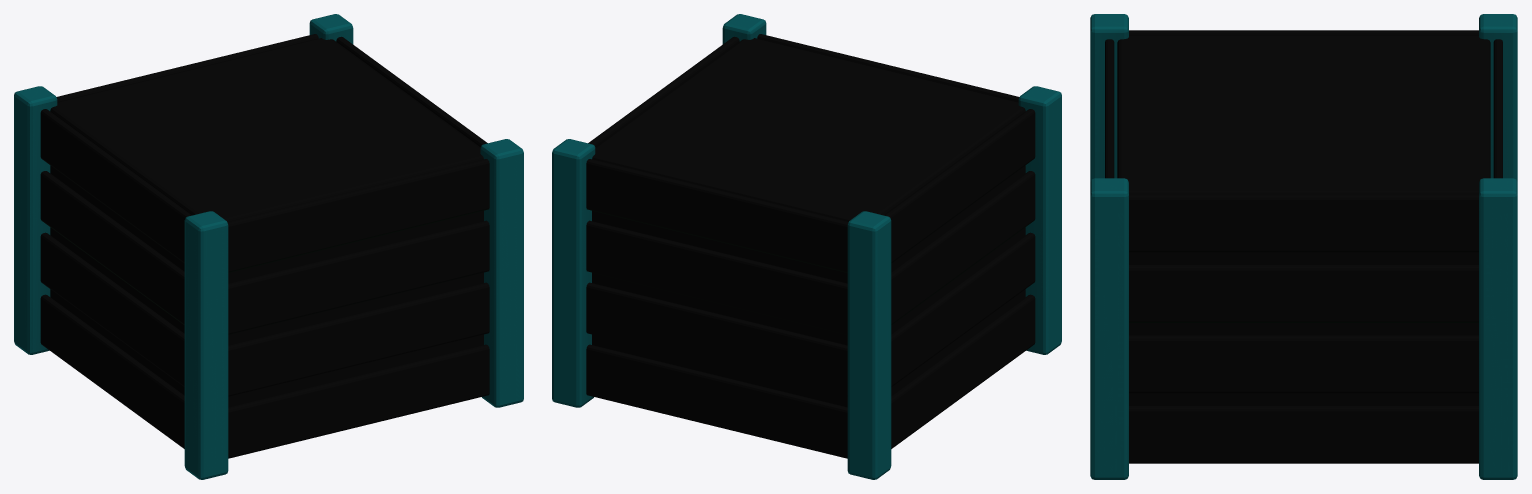
File: crate.glb
The picture shows the model from 3 angles, left to right: view 1: azimuth 30°, elevation 25°; view 2: azimuth 150°, elevation 25°; view 3: azimuth 270°, elevation 25°; orthographic projection. The views are drawn at different scales.
Parts seen in each view (by area): view 1: crate; view 2: crate; view 3: crate.
Part boxes in pixels (x1,y1,x2,y2): crate: (14,14,523,479); crate: (552,14,1061,479); crate: (1090,14,1517,479).
Bounding box in the file's own units: 0.55 × 0.41 × 0.55.
Materials: 1 (1 with a texture image).
